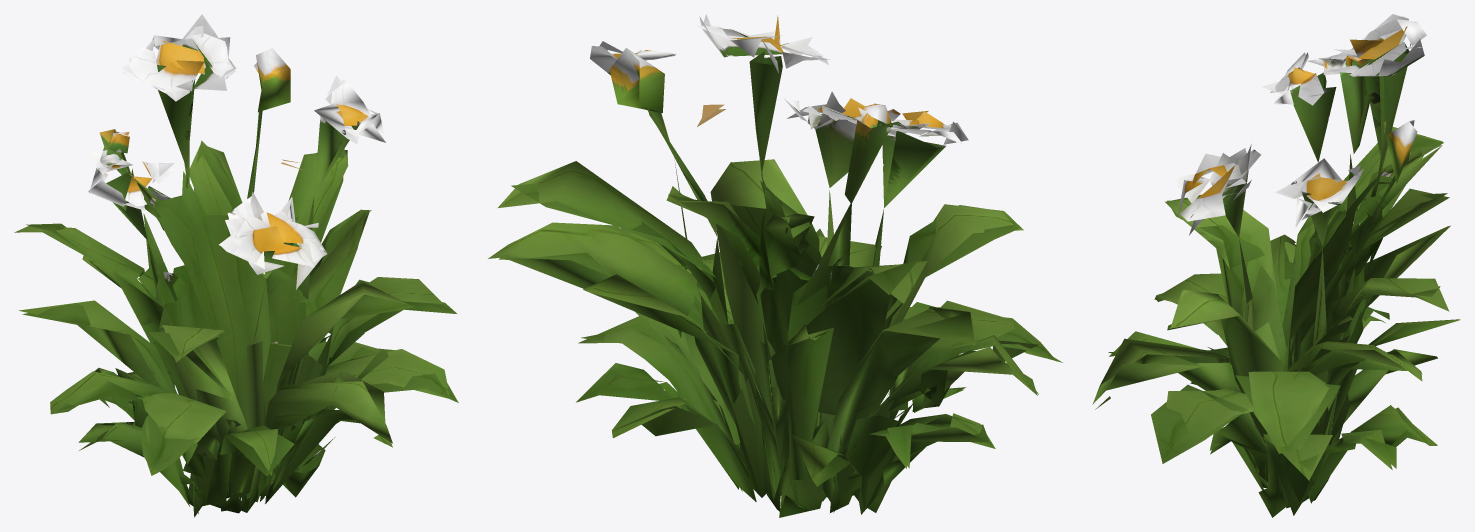
3 renders of one model, left to right at view 1: azimuth 30°, elevation 25°; view 2: azimuth 150°, elevation 25°; view 3: azimuth 270°, elevation 25°, orthographic. The views are drawn at different scales.
Parts seen in each view (by area): view 1: quad; view 2: quad; view 3: quad.
Part boxes in pixels (x1,y1,x2,y2): quad: (14, 14, 458, 517); quad: (488, 14, 1062, 517); quad: (1092, 14, 1460, 517).
Size of the model in its own units: 66.94 by 70 by 49.71.
Materials: 1 (1 with a texture image).
